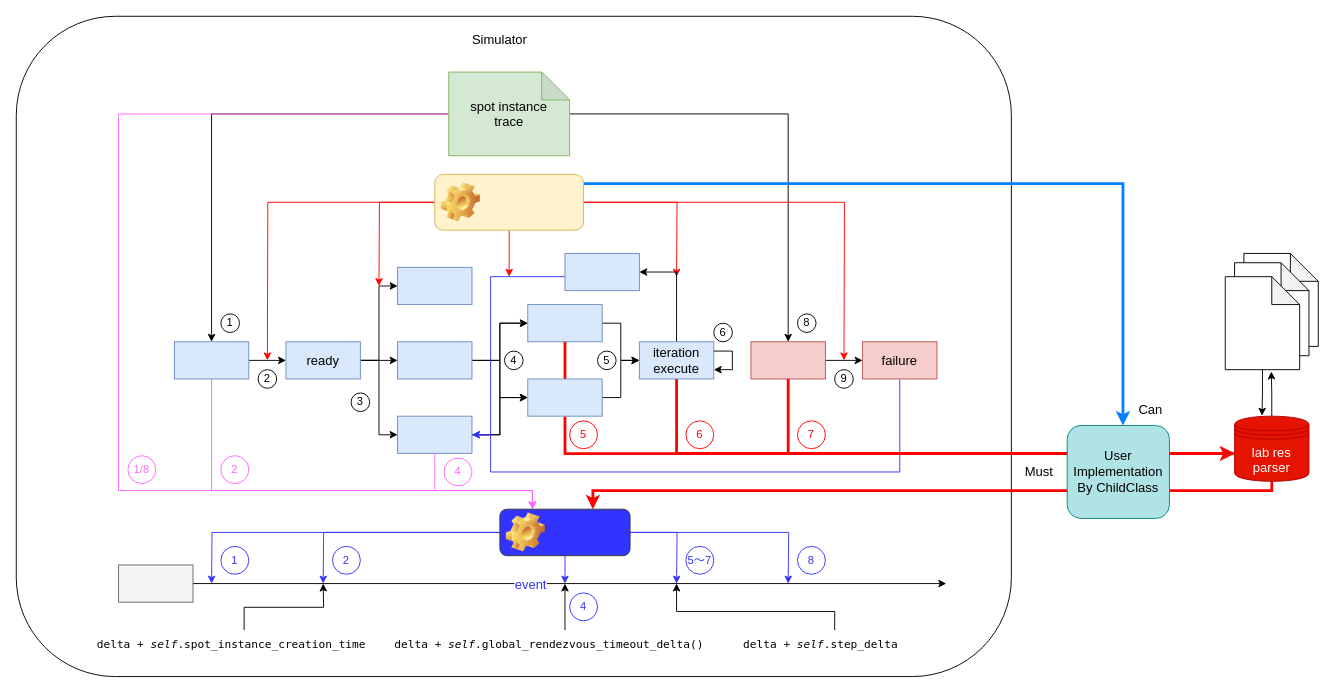
Image size: 1335x693. Some labels were removed from this diagram. The shapes that lost their labels are listed below. From the top down, each one's box as (x1, y1, x2, y2) in pixels, then its label:
(434, 173, 584, 230): StateMachine
(397, 266, 472, 305): wait
(564, 252, 639, 291): reconfigure
(527, 304, 602, 342): preparation global
(1224, 276, 1300, 370): results
(173, 341, 249, 379): add
(397, 341, 472, 379): add to rdzv
(750, 341, 825, 379): remove
(527, 378, 602, 416): preparation local
(397, 415, 472, 453): start
(499, 508, 630, 556): EventCreator
(118, 564, 193, 602): events
